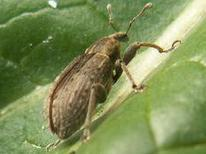weevils: (25, 0, 192, 154)
